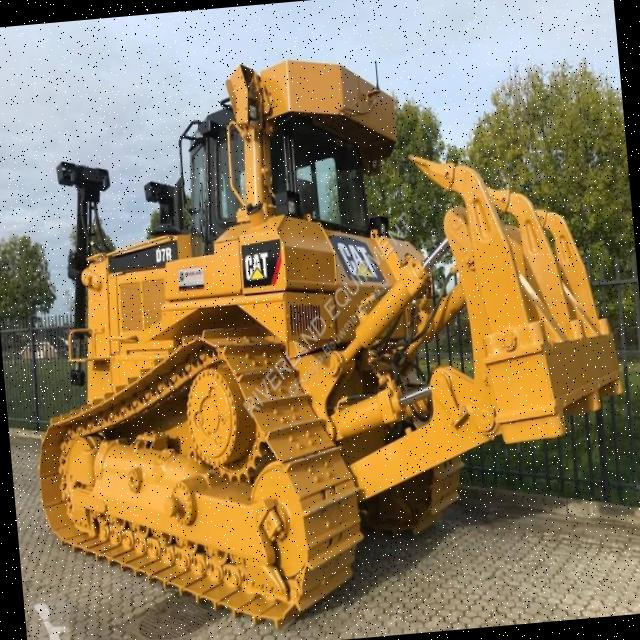Bulldozer: (0, 14, 621, 640)
